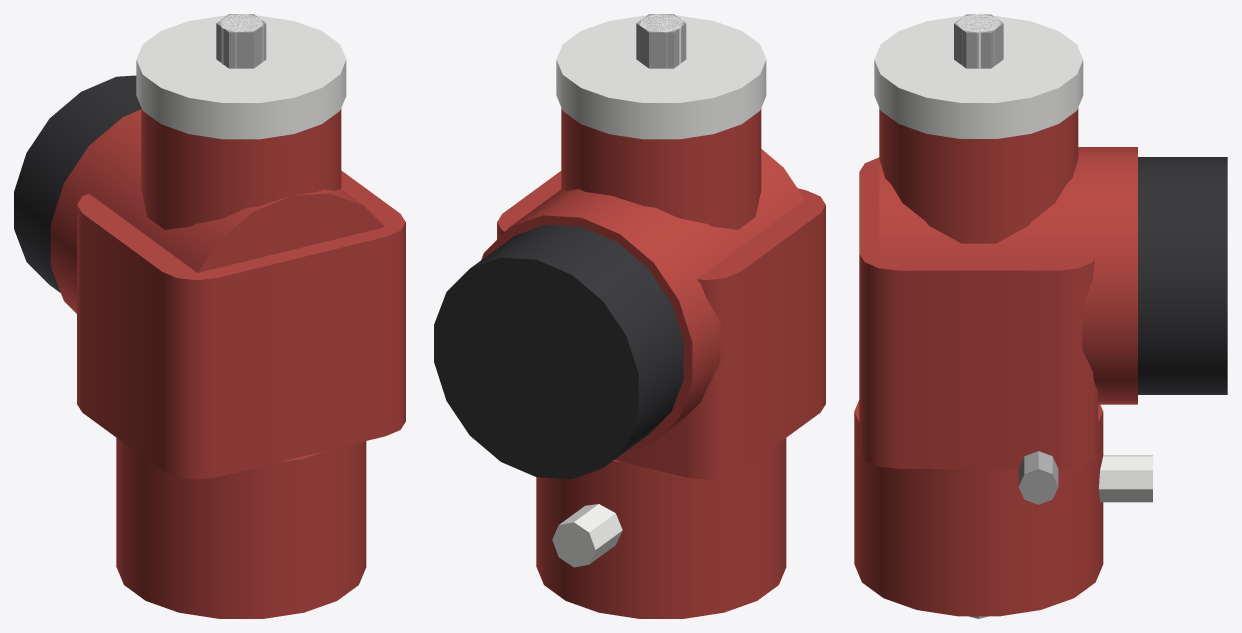
Rendered from carb_round.glb.
3 views of the same model, side by side, from view 1: azimuth 30°, elevation 25°; view 2: azimuth 150°, elevation 25°; view 3: azimuth 270°, elevation 25° (orthographic).
Parts seen in each view (by area): view 1: lod0; view 2: lod0; view 3: lod0.
Boxes of the visible parts, x1,y1,x2,y2 form: lod0: (14,14,405,618); lod0: (434,14,825,618); lod0: (854,14,1227,618).
Size of what is drawn, in the model's own units: 0.0635 by 0.13 by 0.075.
